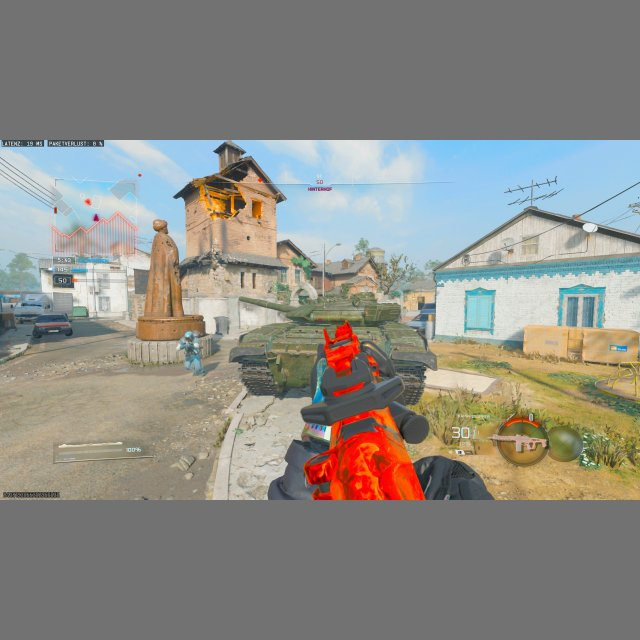head: (184, 331, 194, 341)
player: (177, 331, 206, 377)
